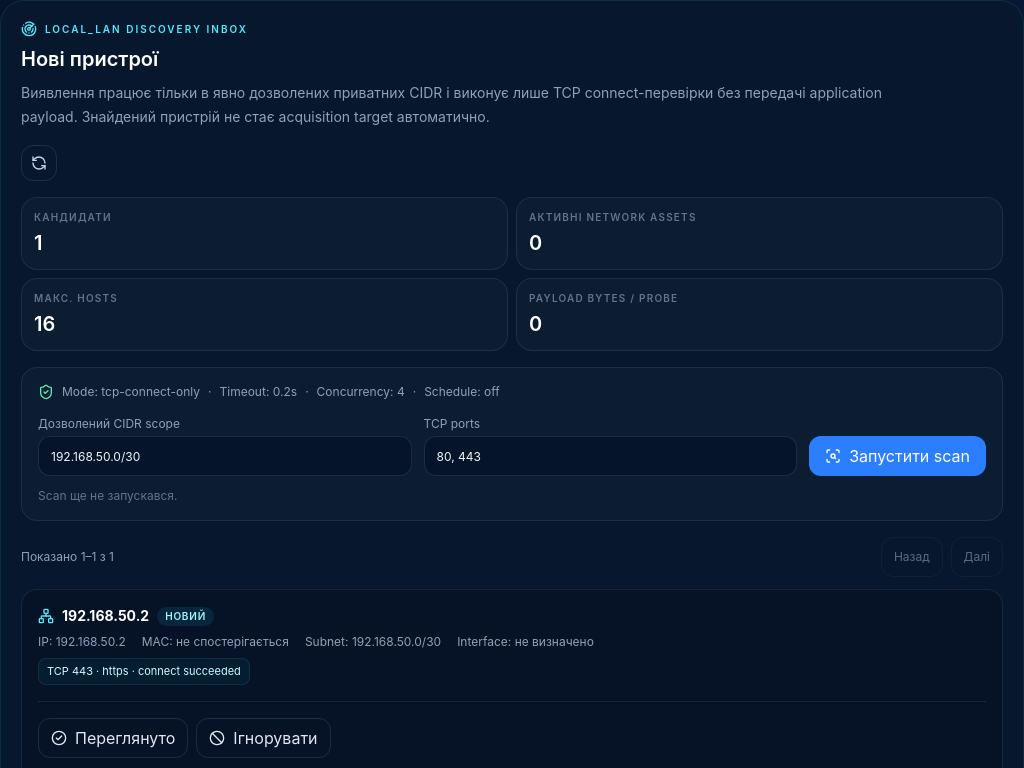
Scenario: EquipmentDiscoveryInbox › fails closed when manual scan scope is cleared
Expected: the text "192.168.50.2" is shown, [62,606,149,626]
Clear the field named "CIDR scope discovery" at [225, 456], box [38,436,412,476]
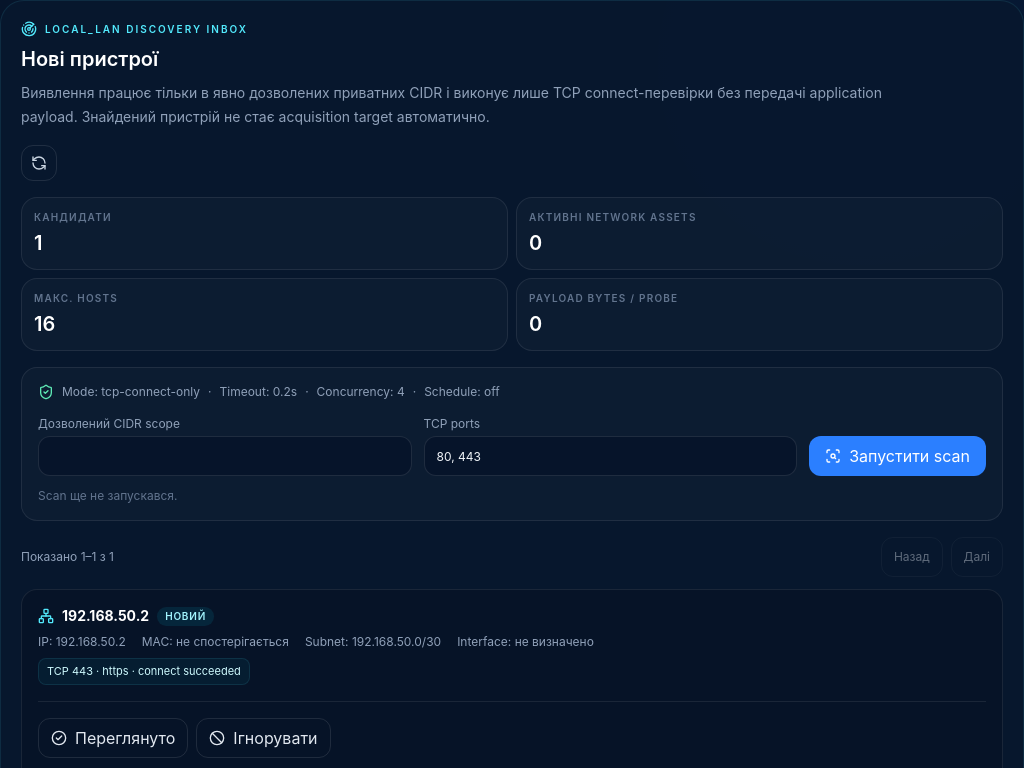
Clear the field named "TCP ports discovery" at [610, 456], box [424,436,797,476]
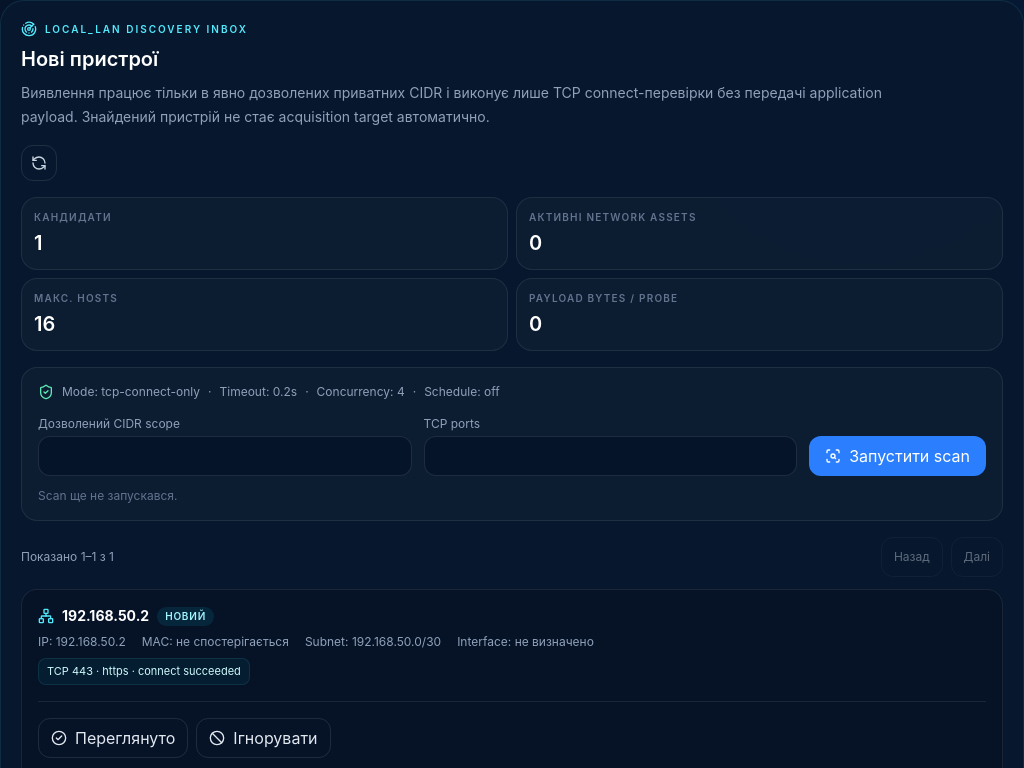
Click the button "Запустити scan".
click(898, 456)  # box [809,436,986,476]
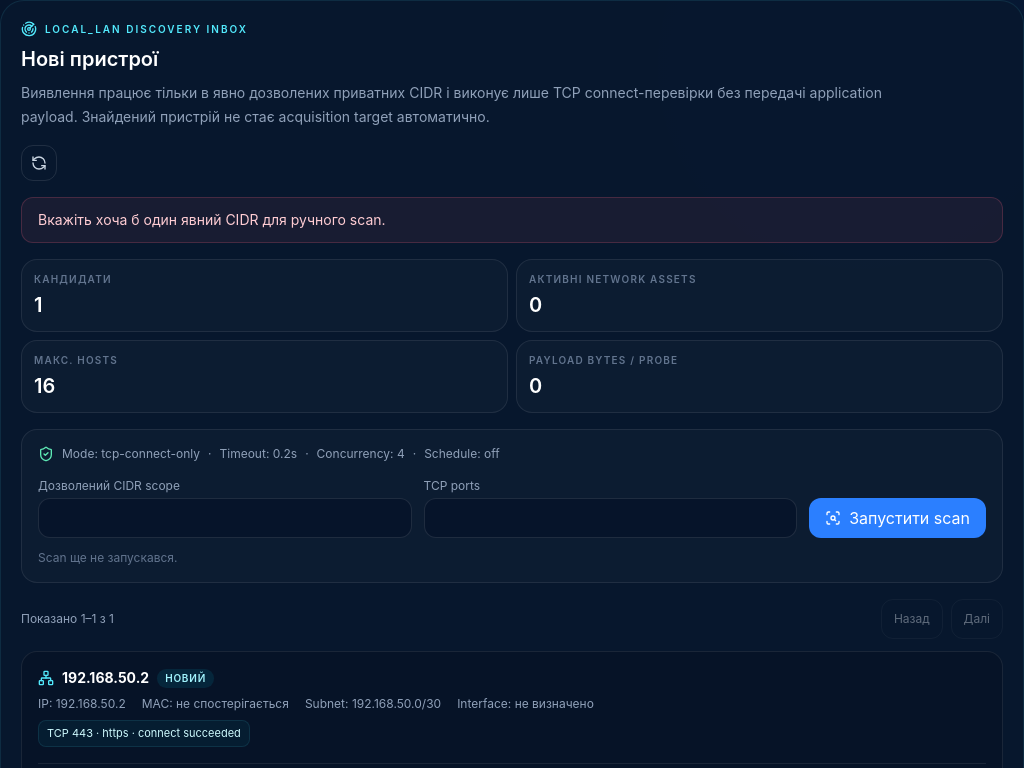
Expected: the text "Вкажіть хоча б один явний CIDR для ручного scan." is shown, [21,197,1003,243]
